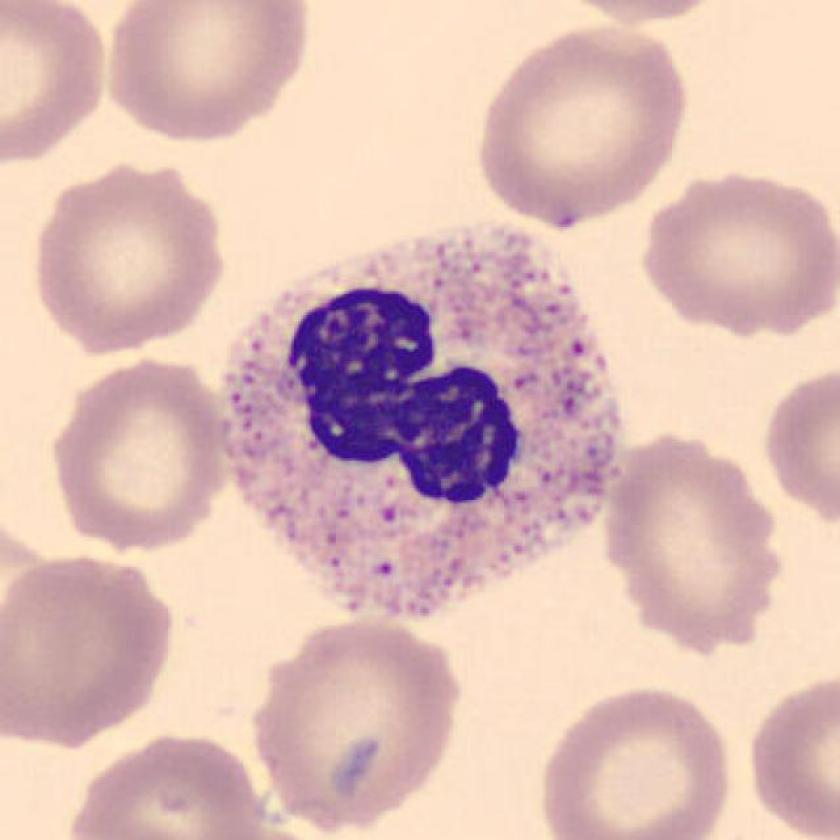neutrophil: (215, 224, 619, 611)
